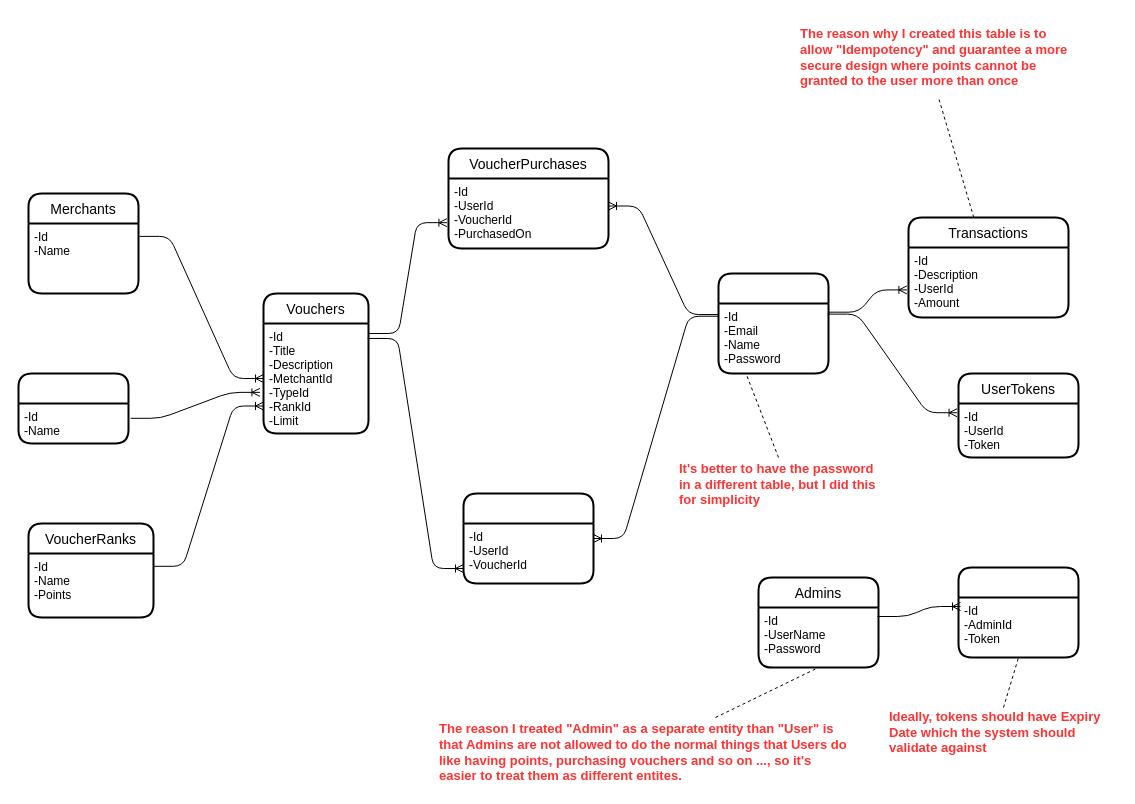
The diagram is 1135 pixels wide and 804 high, and some of its shapes have lost their labels. The shapes that lost their labels are listed below. From the top down, each one's box as (x1, y1, x2, y2) in pixels, then its label:
(717, 272, 829, 374): Users
(17, 372, 129, 444): VoucherTypes
(462, 492, 594, 584): VoucherTrials
(957, 566, 1079, 658): AdminTokens
